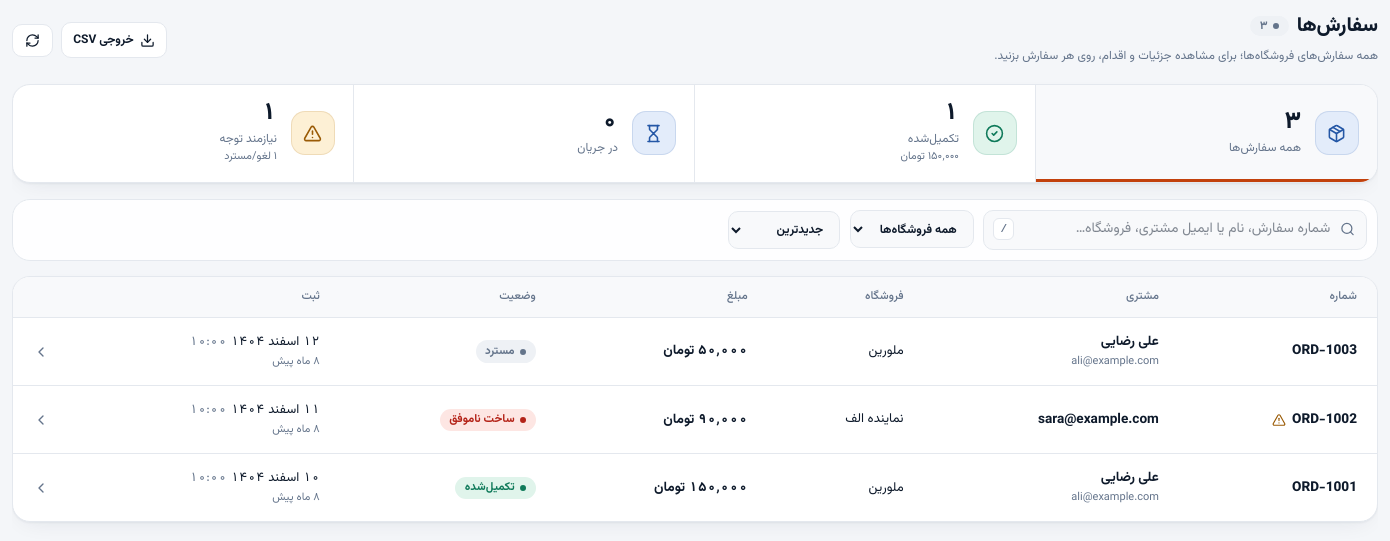
Test: orders screen › shows customer and store names instead of raw ids and filters by KPI
The image size is (1390, 541).
Expected: the text "ORD-1001" is shown, [1292,478,1357,498]
Expected: the text "علی رضایی" next to "ORD-1003" is shown, [1101,330,1159,352]
Click the button "۱ نیازمند توجه ۱ لغو/مسترد".
click(313, 133)  # box [13,85,354,182]
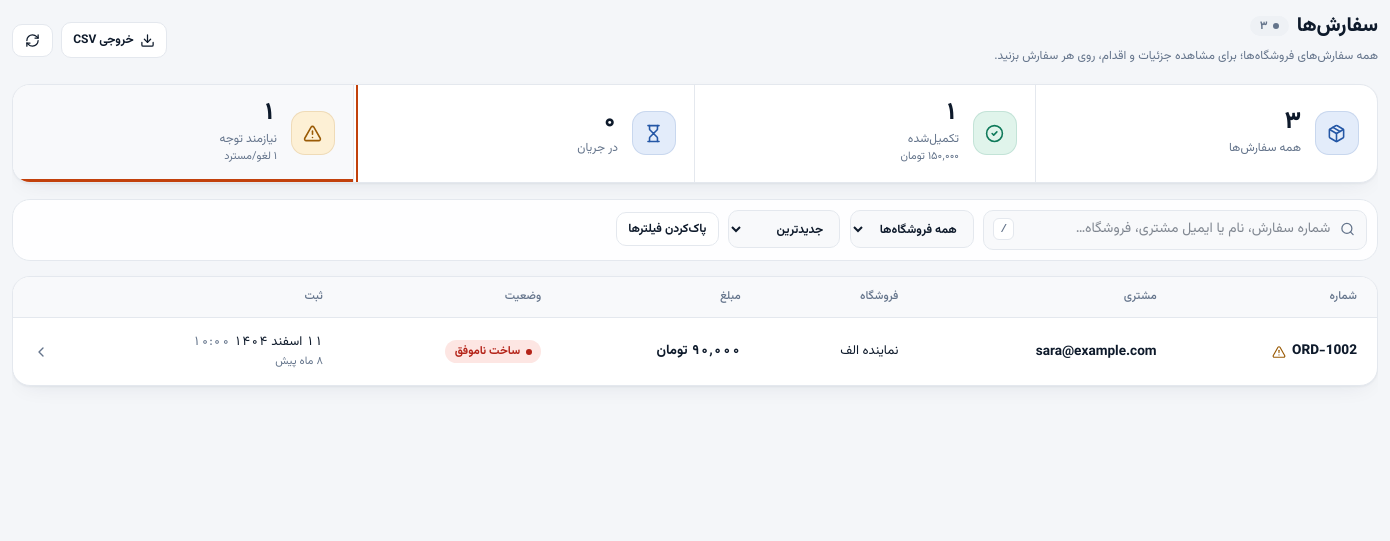
Expected: the text "ORD-1002" is shown, [1292,341,1357,362]
Result: the text "ORD-1001" is gone
